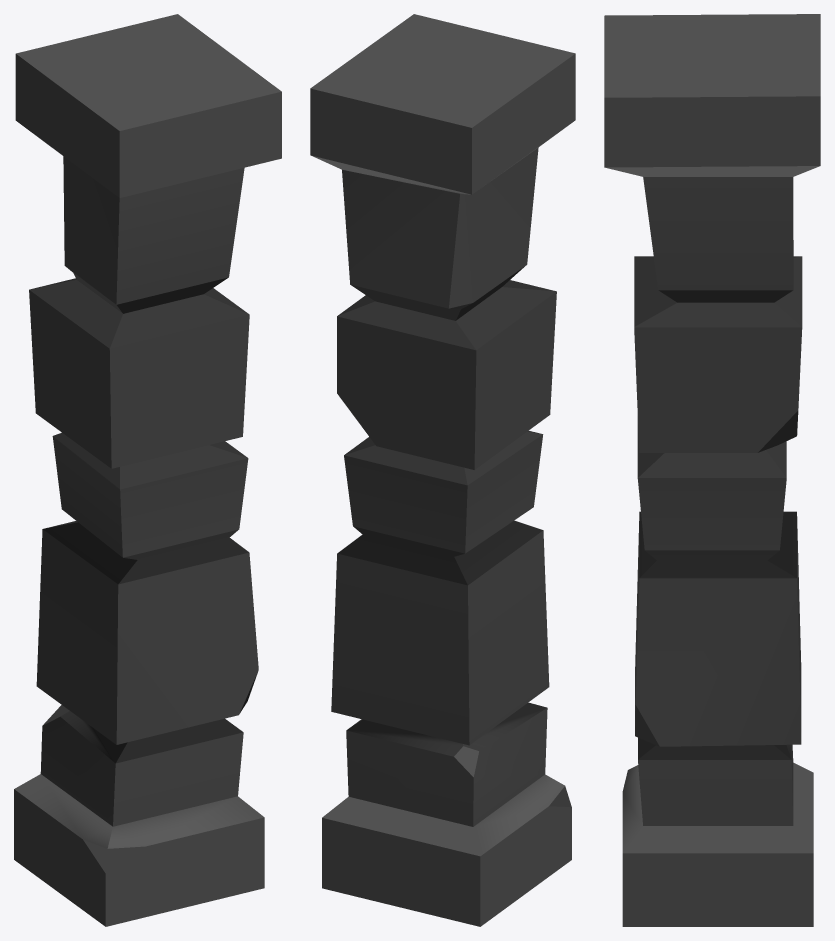
File: Pillarv2Stone.obj
The picture shows the model from 3 angles, left to right: view 1: azimuth 30°, elevation 25°; view 2: azimuth 150°, elevation 25°; view 3: azimuth 270°, elevation 25°; orthographic projection. The views are drawn at different scales.
Visible parts, largest first — view 1: Pillarv2Stone1; view 2: Pillarv2Stone1; view 3: Pillarv2Stone1.
Boxes of the visible parts, x1,y1,x2,y2 form: Pillarv2Stone1: [14, 14, 281, 926]; Pillarv2Stone1: [310, 14, 575, 926]; Pillarv2Stone1: [604, 14, 820, 926].
Bounding box in the file's own units: 5.55 × 25.45 × 5.98.
